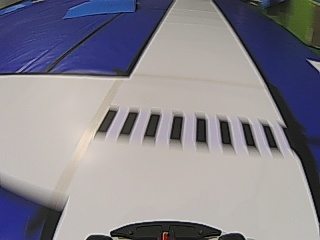CrossWalk: (94, 107, 278, 149)
